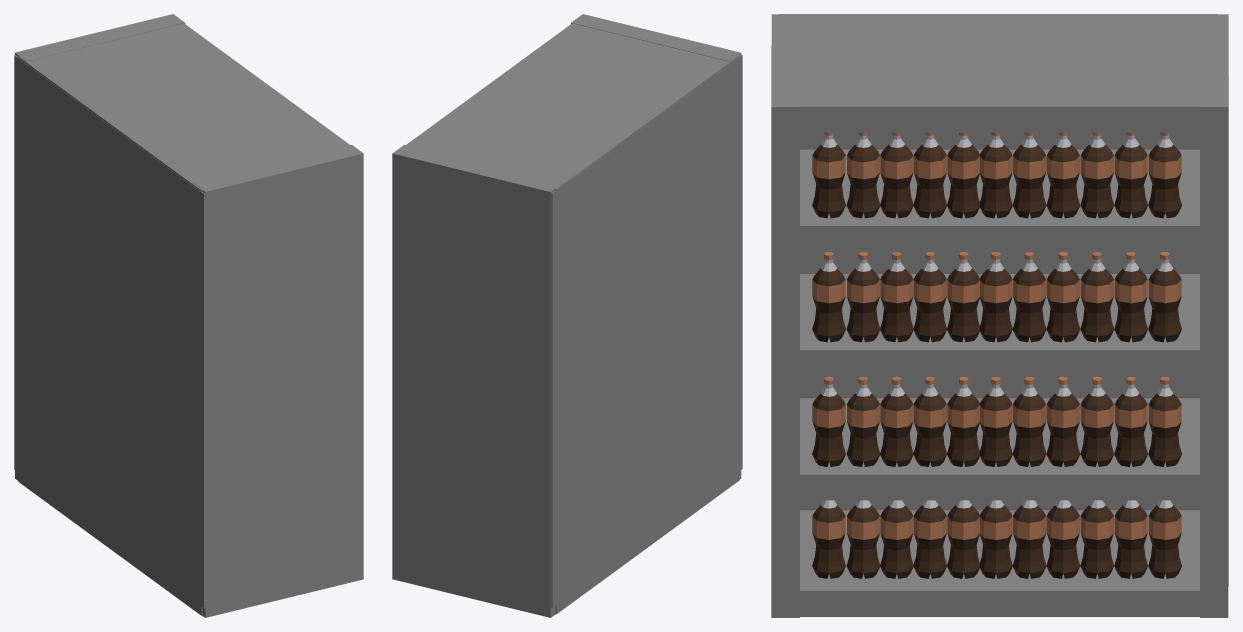
The model's file is ginger_ale_shelf.gltf.
The picture shows the model from 3 angles, left to right: view 1: azimuth 30°, elevation 25°; view 2: azimuth 150°, elevation 25°; view 3: azimuth 270°, elevation 25°; orthographic projection. The views are drawn at different scales.
Parts seen in each view (by area): view 1: Cube.026; view 2: Cube.026; view 3: Cube.026.
Part boxes in pixels (left/top/right/bottom): Cube.026: left=14, top=14, right=363, bottom=617; Cube.026: left=392, top=14, right=742, bottom=617; Cube.026: left=771, top=14, right=1228, bottom=617.
Bounding box in the file's own units: 4.03 × 10.28 × 8.34.
Materials: 4 (1 with a texture image).
